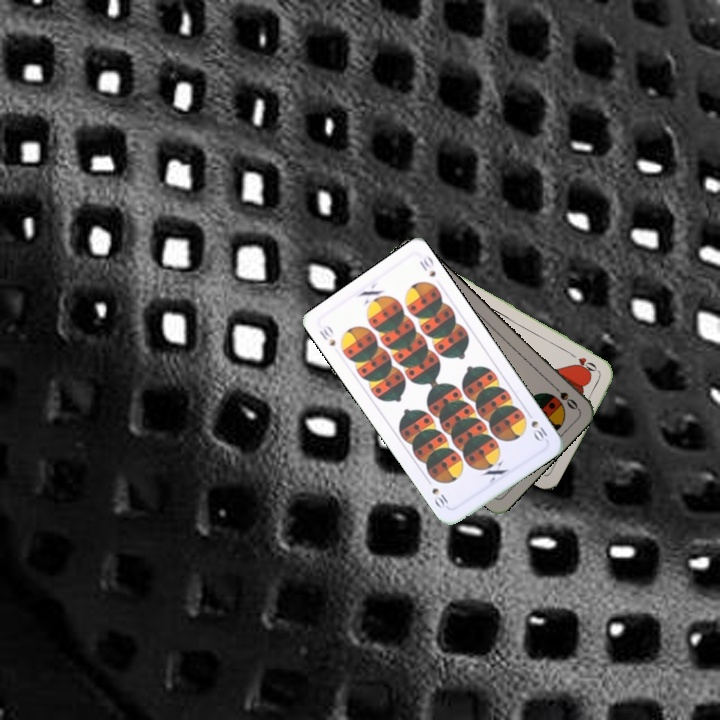HO: (565, 348, 602, 374)
S10: (522, 407, 550, 445), (315, 321, 338, 349)
SO: (548, 380, 581, 412)
